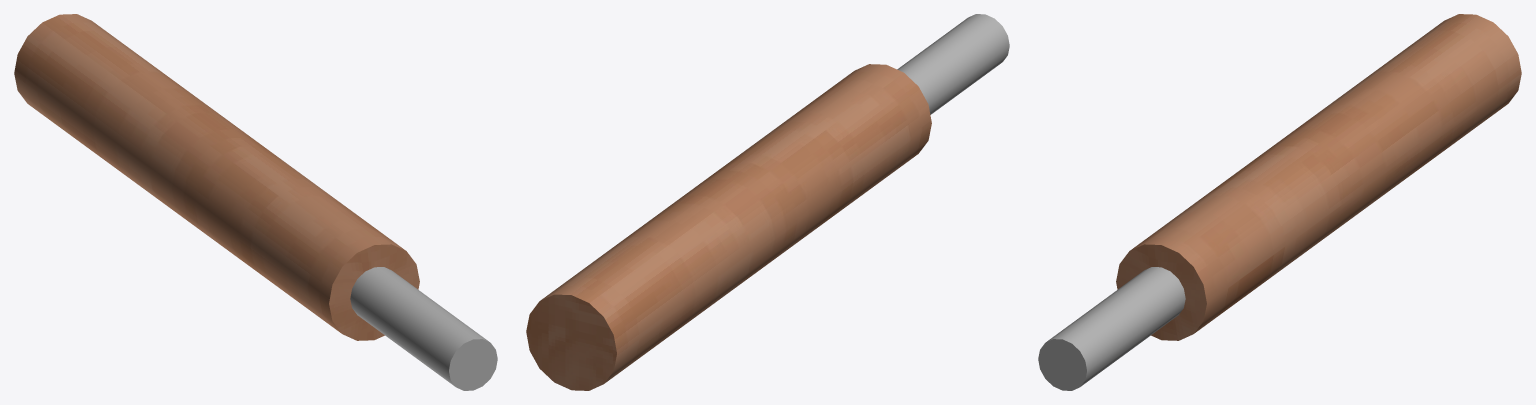
The model's file is Mdl_StickShort.fbx.
3 renders of one model, left to right at view 1: azimuth 30°, elevation 25°; view 2: azimuth 150°, elevation 25°; view 3: azimuth 330°, elevation 25°, orthographic.
Visible parts, largest first — view 1: stick short; view 2: stick short; view 3: stick short.
Boxes of the visible parts, left/top/right/bottom form: stick short: left=14, top=14, right=497, bottom=390; stick short: left=526, top=14, right=1009, bottom=390; stick short: left=1038, top=14, right=1521, bottom=390.
Bounding box in the file's own units: 7.69 × 7.69 × 60.59.
Materials: 2 (1 with a texture image).
